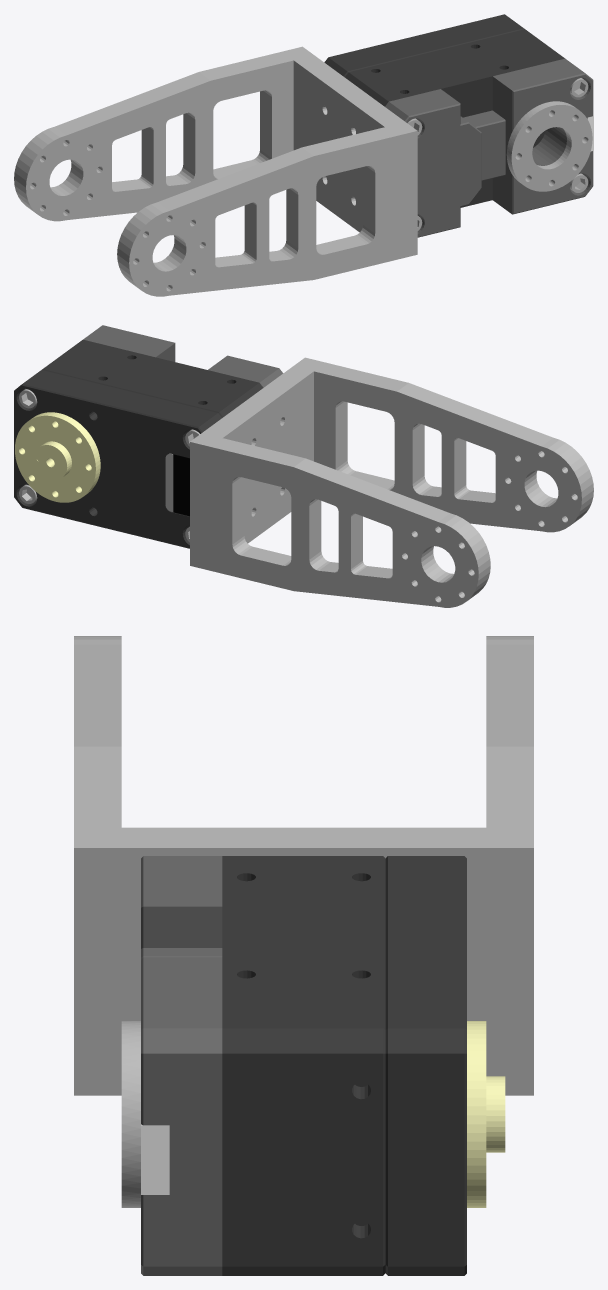
File: LEGupper.obj
3 renders of one model, top to bottom at view 1: azimuth 30°, elevation 25°; view 2: azimuth 150°, elevation 25°; view 3: azimuth 270°, elevation 25°, orthographic. The views are drawn at different scales.
Bounding box in the file's own units: 11.6 × 2.85 × 4.8.
